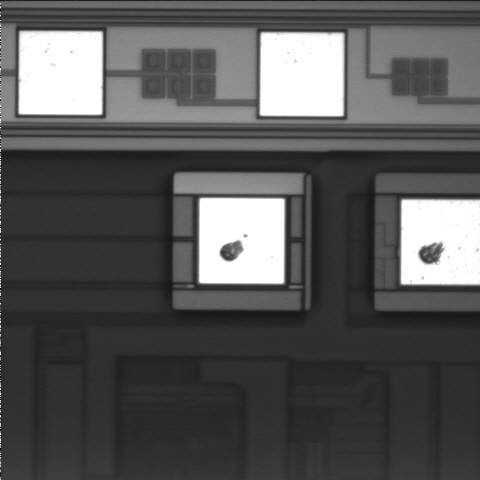pad: (199, 198, 284, 284), (19, 31, 102, 115), (260, 33, 344, 116)
